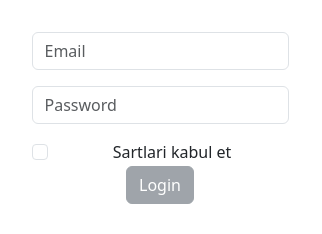
Test: Login page › Error messages › shows error when email is not valid
The image size is (322, 234).
Type "enis@work" into the field with test id "email-input" at [161, 51], box [32,32,289,70]
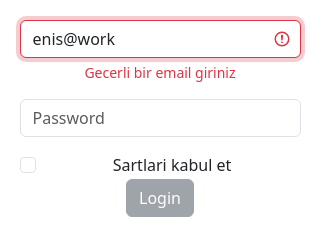
Check: the button with test id "submit-button" is disabled, box [126,179,194,217]
Check: the number of elements with test id "error-message" is 1, box [84,63,235,82]
Check: the text "Gecerli bir email giriniz" is shown, box [84,62,236,82]
